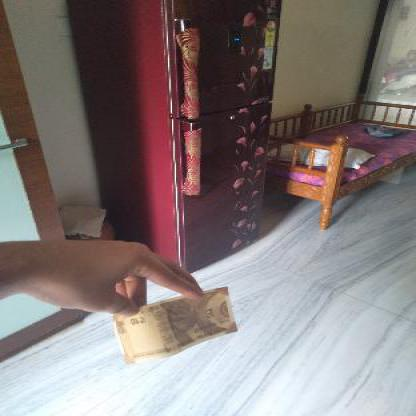New10Front: (112, 286, 235, 361)
